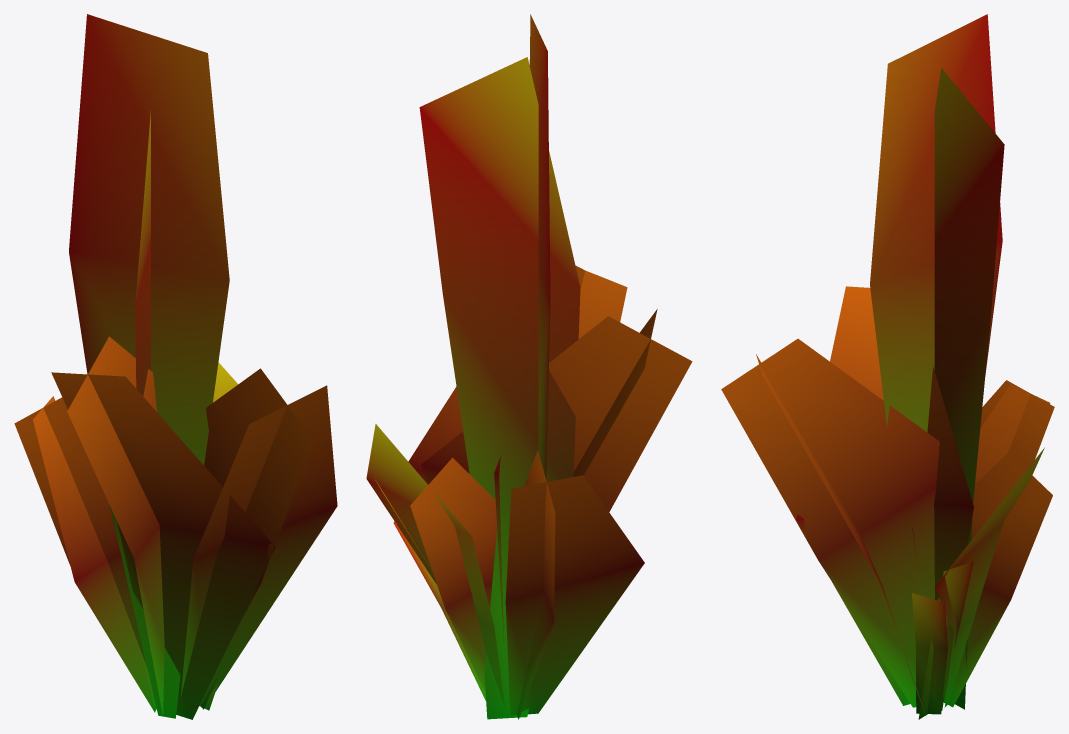
The model's file is Dead Broom Bush_LOD1_Var4_tlpjdhwia.fbx.
The picture shows the model from 3 angles, left to right: view 1: azimuth 30°, elevation 25°; view 2: azimuth 150°, elevation 25°; view 3: azimuth 270°, elevation 25°; orthographic projection. The views are drawn at different scales.
Parts seen in each view (by area): view 1: _f5d7_Var4_LOD1; view 2: _f5d7_Var4_LOD1; view 3: _f5d7_Var4_LOD1.
Part boxes in pixels (left/top/right/bottom): _f5d7_Var4_LOD1: left=14, top=14, right=337, bottom=719; _f5d7_Var4_LOD1: left=366, top=14, right=692, bottom=719; _f5d7_Var4_LOD1: left=721, top=14, right=1054, bottom=719.
Size of the model in its own units: 15.59 by 35.66 by 16.2.
